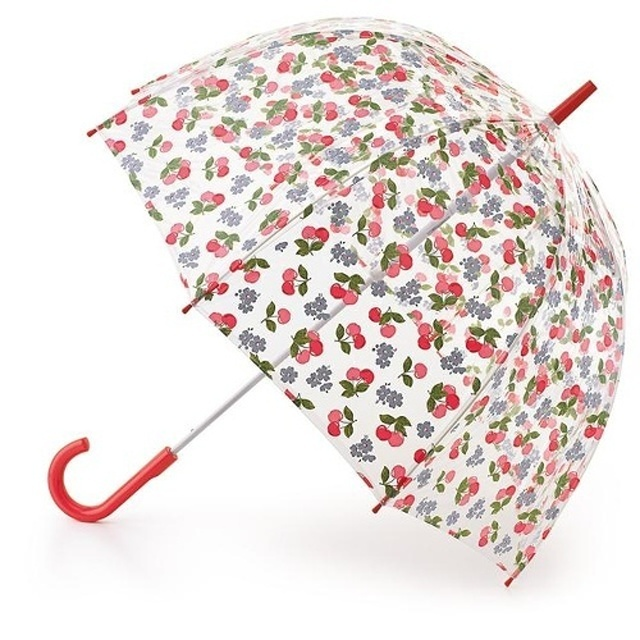umbrella: (34, 11, 634, 592)
